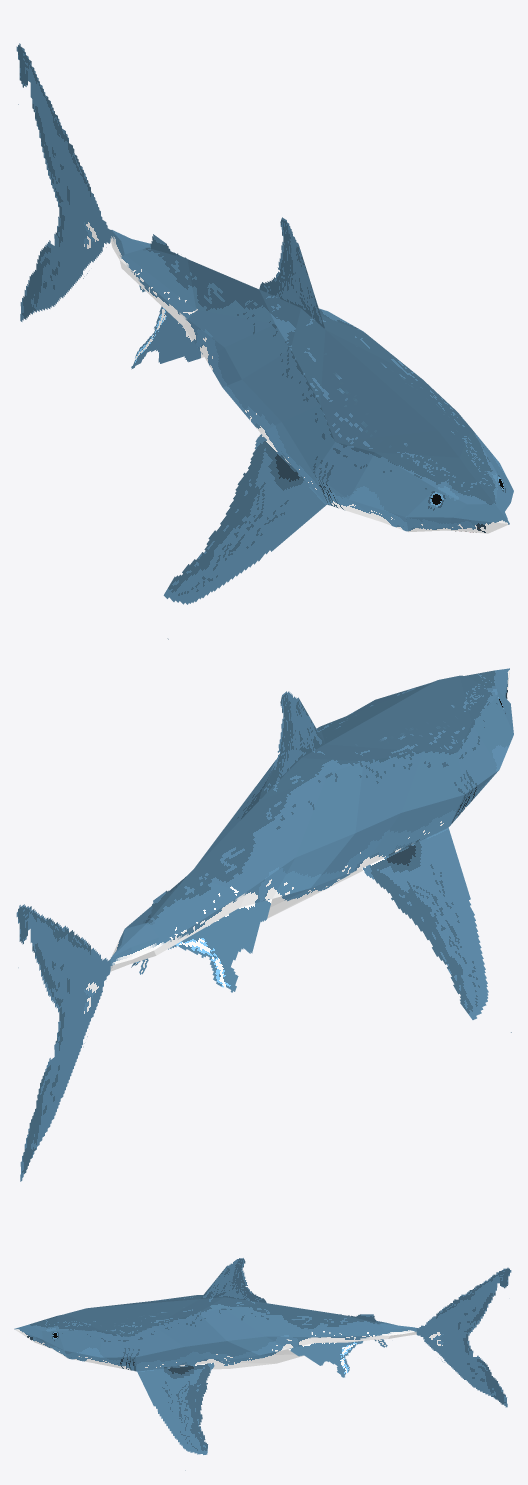
File: shork.gltf
The picture shows the model from 3 angles, top to bottom: view 1: azimuth 30°, elevation 25°; view 2: azimuth 150°, elevation 25°; view 3: azimuth 270°, elevation 25°; orthographic projection. The views are drawn at different scales.
Parts seen in each view (by area): view 1: Cube; view 2: Cube; view 3: Cube.
Part boxes in pixels (box(x1,y1,x2,y2)): Cube: box(16, 43, 513, 639); Cube: box(16, 668, 513, 1181); Cube: box(14, 1258, 511, 1470).
Bounding box in the file's own units: 1.57 × 1.51 × 3.93.
1 material, 1 textured.
